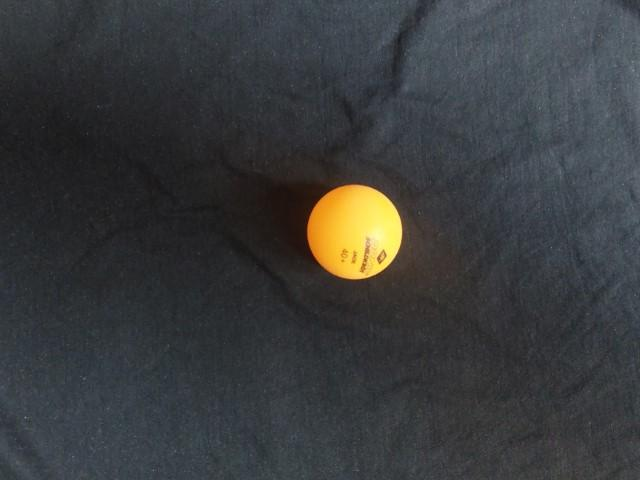oball: (228, 193, 337, 300)
